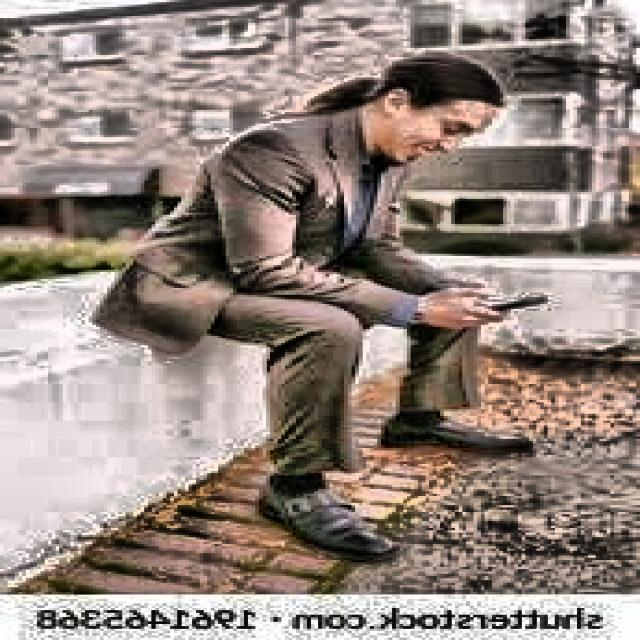Human: (118, 44, 576, 578)
